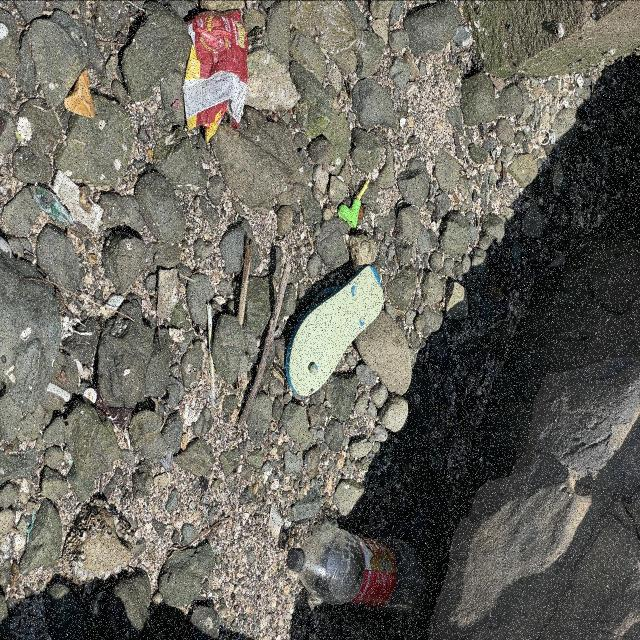plastic_waste: (287, 528, 430, 611), (182, 11, 249, 146)
rubber_waste: (287, 259, 385, 394)
